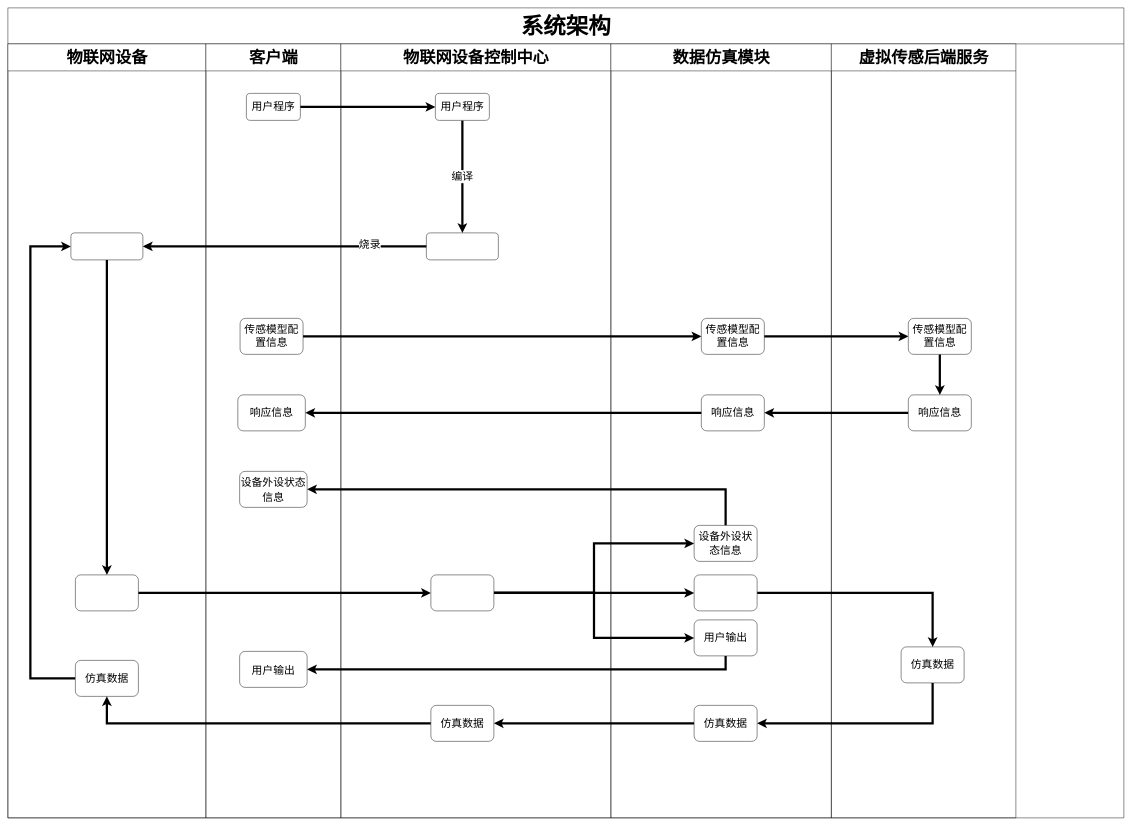
Image size: 1132x826. Some labels were removed from this diagram. The centre of each missing label's shape, as x and y in pixels:
"二进制文件" goes at (462,246).
"可执行程序" goes at (106,246).
"数据请求" goes at (725,592).
"设备输出" goes at (462,592).
"输出" goes at (106,592).
